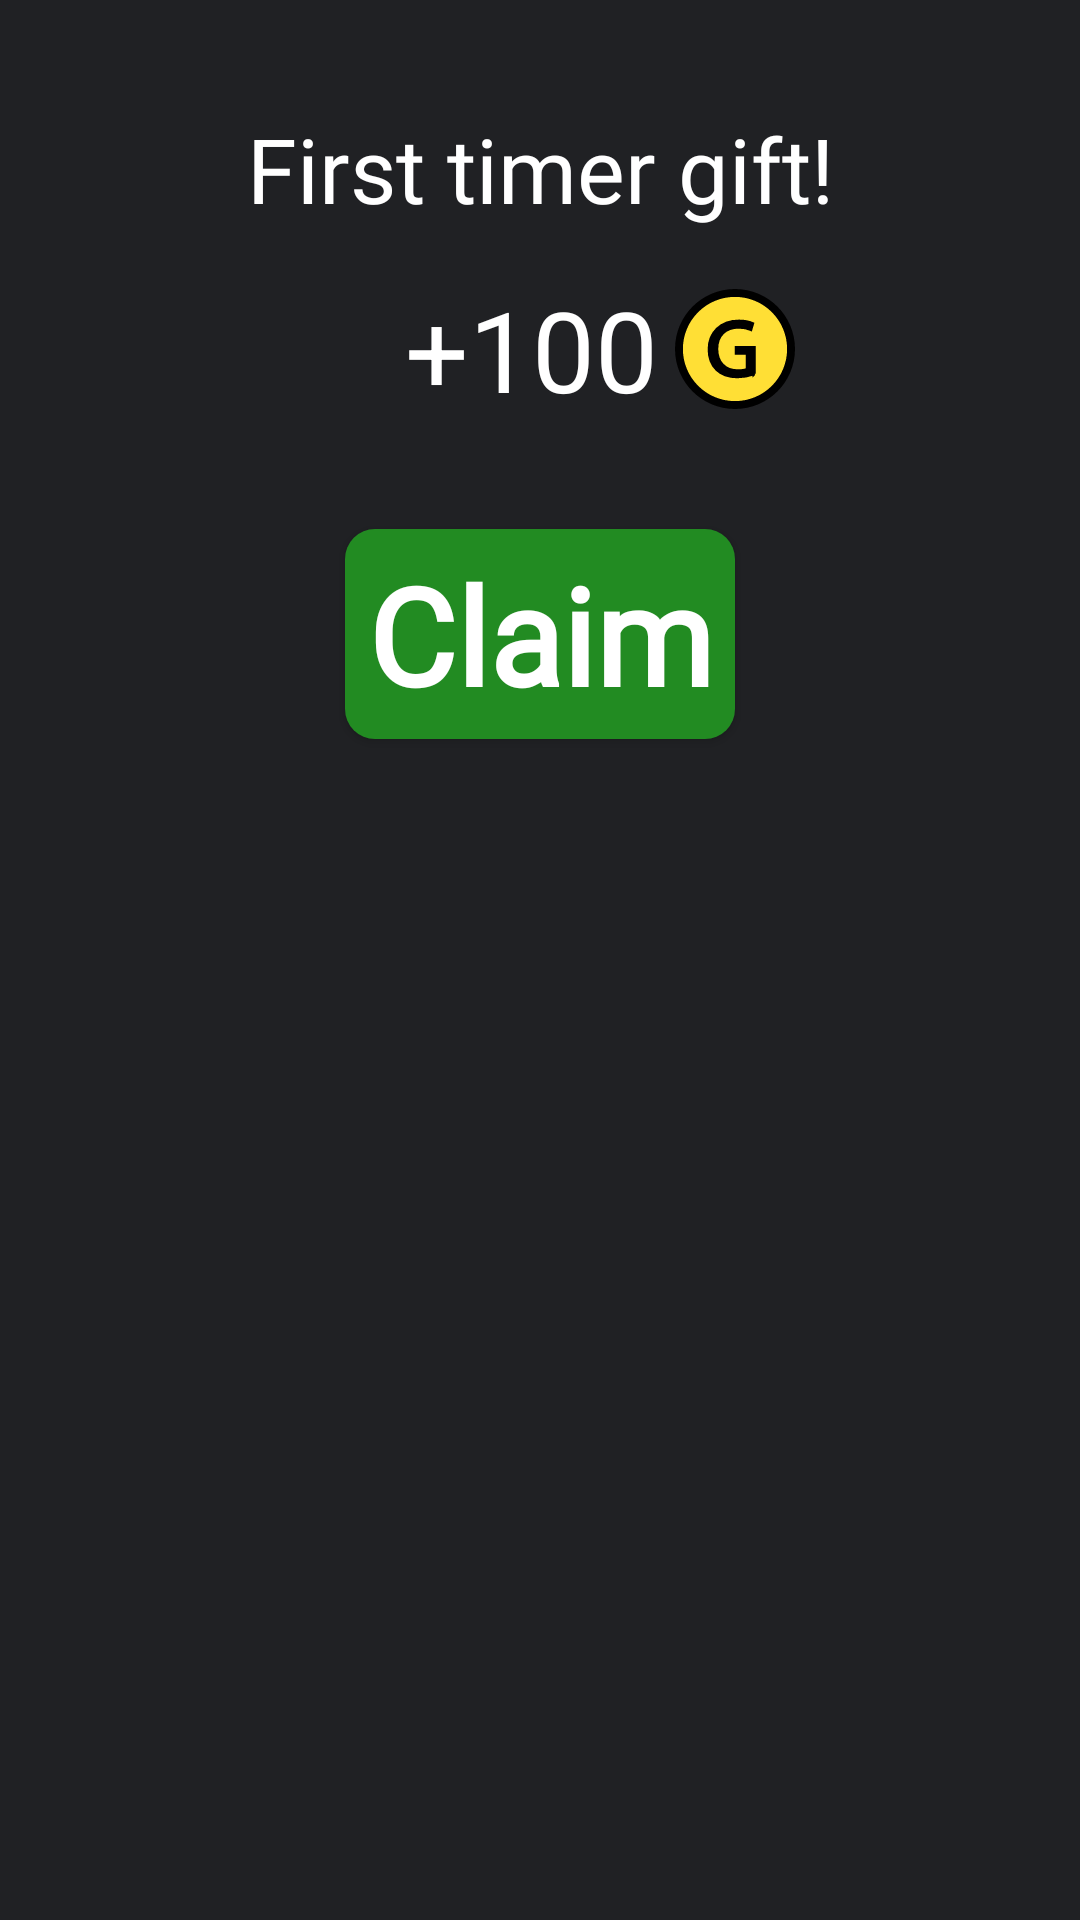

Icon click points for this 1080×1920 phone screenshot, format (x=x, y=y):
coin: (x=735, y=349)
